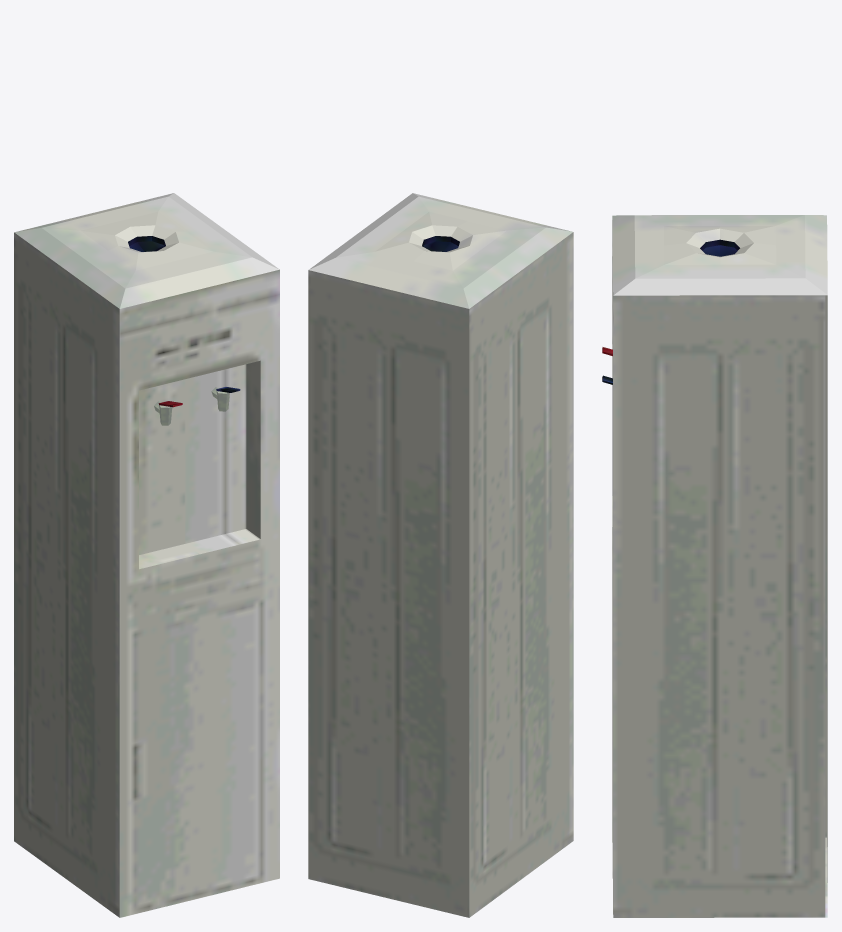
Rendered from water_cooler_bottle_attached.obj.
The picture shows the model from 3 angles, left to right: view 1: azimuth 30°, elevation 25°; view 2: azimuth 150°, elevation 25°; view 3: azimuth 270°, elevation 25°; orthographic projection. The views are drawn at different scales.
Parts seen in each view (by area): view 1: water_cooler_bottle_attached; view 2: water_cooler_bottle_attached; view 3: water_cooler_bottle_attached.
Boxes of the visible parts, box(x1,y1,x2,y2) form: water_cooler_bottle_attached: box(14, 193, 279, 917); water_cooler_bottle_attached: box(308, 193, 573, 917); water_cooler_bottle_attached: box(602, 215, 827, 917).
Size of the model in its own units: 0.3792 by 1.85 by 0.4498.
